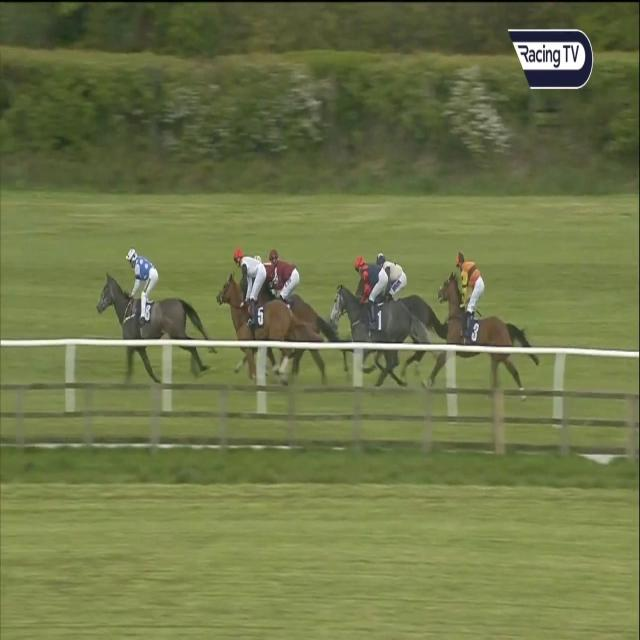horses-racing: (95, 247, 214, 383), (436, 249, 536, 401), (329, 256, 416, 390), (215, 248, 296, 388), (376, 252, 437, 312), (264, 245, 317, 305)
